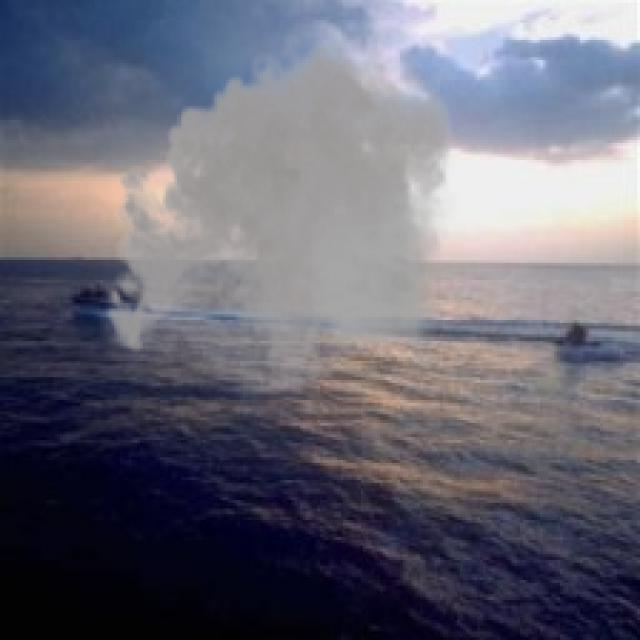smoke: (94, 26, 466, 414)
